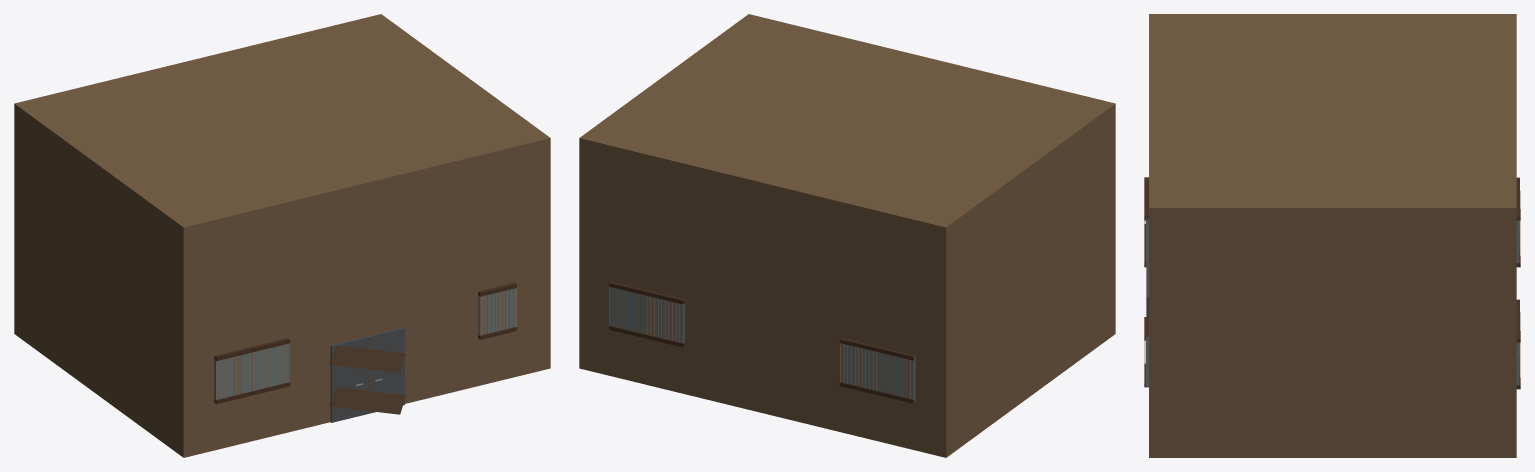
File: waffenladen.glb
The picture shows the model from 3 angles, left to right: view 1: azimuth 30°, elevation 25°; view 2: azimuth 150°, elevation 25°; view 3: azimuth 270°, elevation 25°; orthographic projection. The views are drawn at different scales.
Parts seen in each view (by area): view 1: Cube; view 2: Cube; view 3: Cube.
Boxes of the visible parts, <box> form: Cube: <box>14,14,550,457</box>; Cube: <box>579,14,1115,457</box>; Cube: <box>1144,14,1520,457</box>.
Size of the model in its own units: 10 by 6.22 by 8.19.
